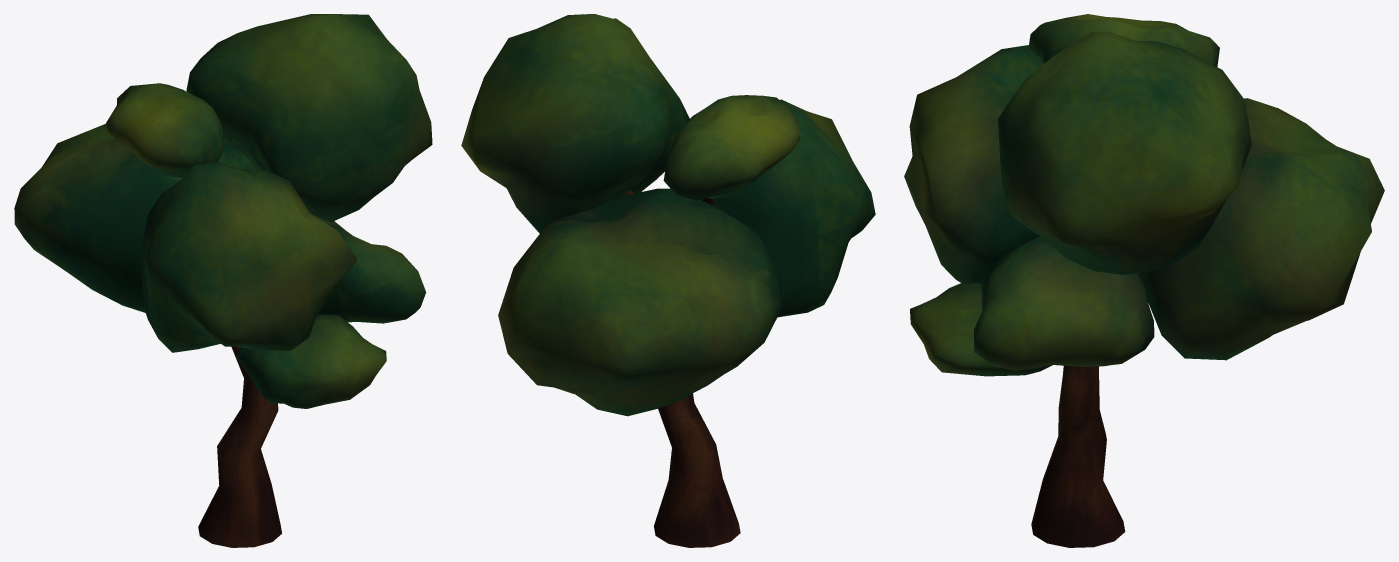
Rendered from tree.gltf.
The picture shows the model from 3 angles, left to right: view 1: azimuth 30°, elevation 25°; view 2: azimuth 150°, elevation 25°; view 3: azimuth 270°, elevation 25°; orthographic projection. The views are drawn at different scales.
Visible parts, largest first — view 1: tree.009; view 2: tree.009; view 3: tree.009.
Part boxes in pixels (bbox=[...]): tree.009: bbox=[14, 14, 432, 547]; tree.009: bbox=[461, 14, 875, 547]; tree.009: bbox=[904, 14, 1384, 547].
Bounding box in the file's own units: 6.99 × 9.85 × 7.93.
Materials: 2 (2 with a texture image).
